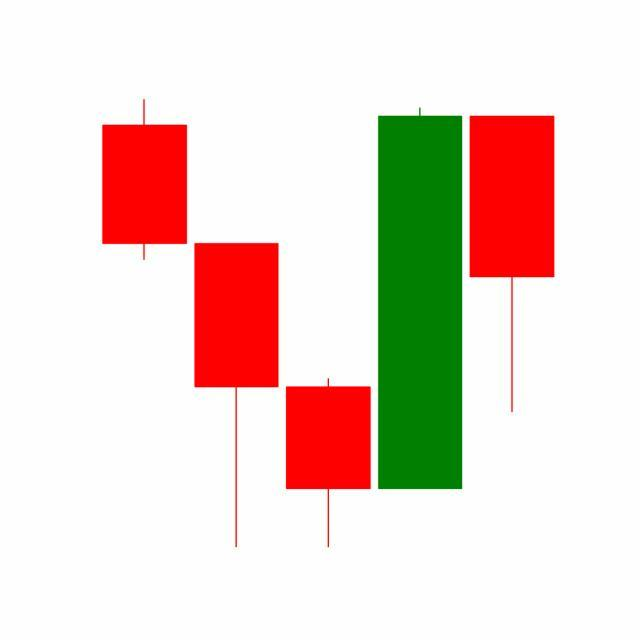Marubozu: (374, 104, 468, 493)
